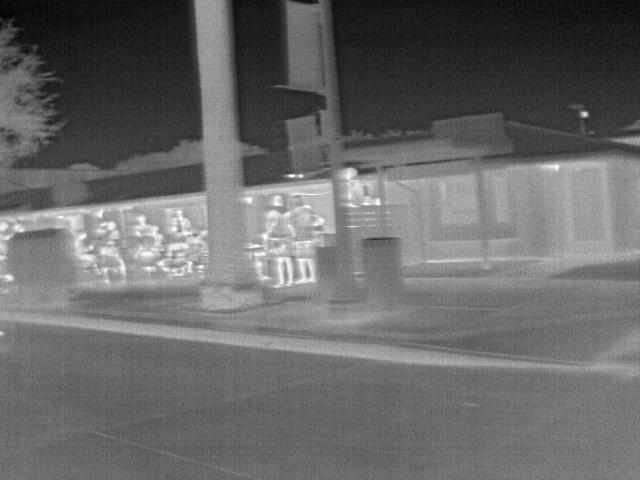person: (291, 191, 325, 285), (267, 189, 298, 287), (98, 239, 130, 286), (343, 165, 366, 205), (168, 206, 194, 234), (75, 228, 96, 258), (132, 212, 160, 234), (166, 234, 190, 259), (95, 220, 122, 242)
